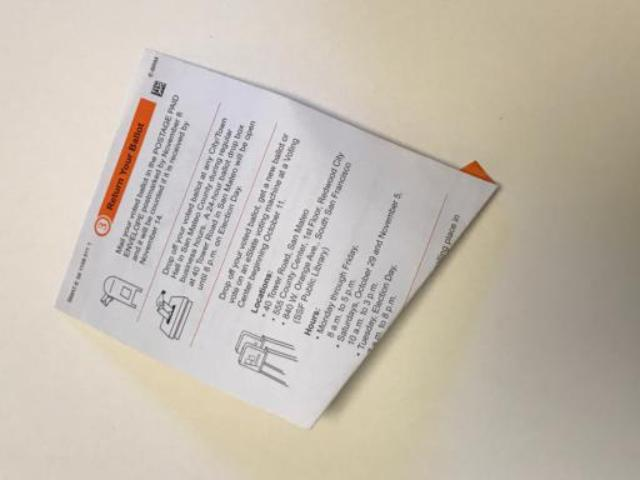cardboard paper: (55, 50, 495, 425)
